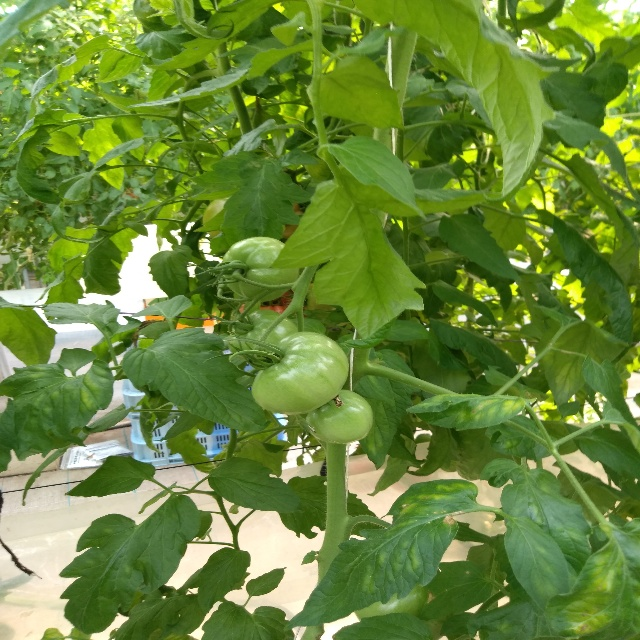b_green: (252, 331, 348, 415), (354, 576, 455, 640), (221, 236, 299, 303), (305, 389, 373, 445), (228, 309, 299, 361)
